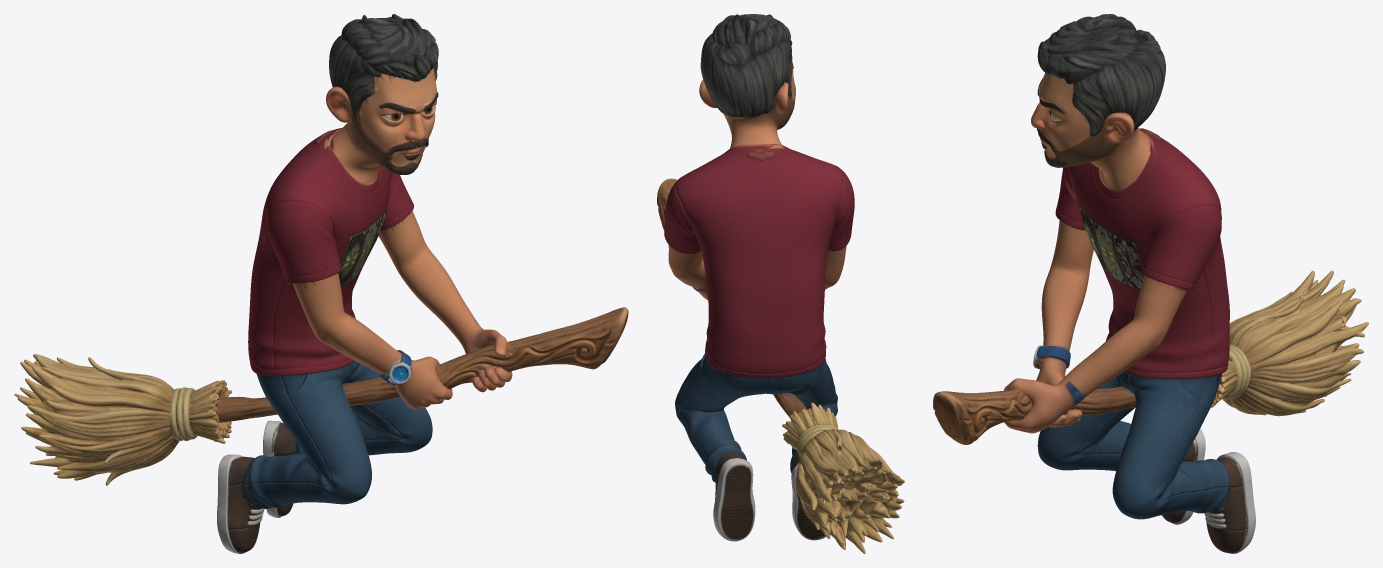
Rendered from hero-2.optimized.glb.
3 views of the same model, side by side, from view 1: azimuth 30°, elevation 25°; view 2: azimuth 150°, elevation 25°; view 3: azimuth 270°, elevation 25° (orthographic). The views are drawn at different scales.
Bounding box in the file's own units: 1.64 × 1.9 × 1.35.
Materials: 1 (1 with a texture image).
